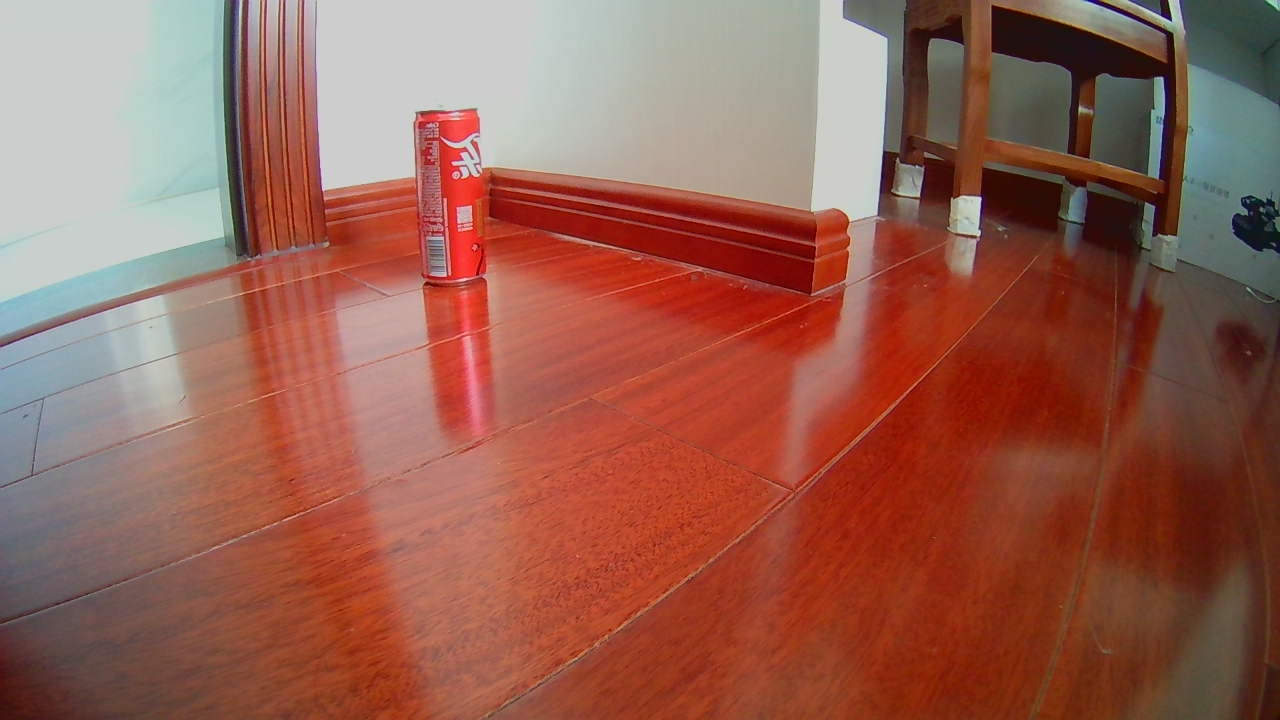cola: (411, 110, 491, 283)
